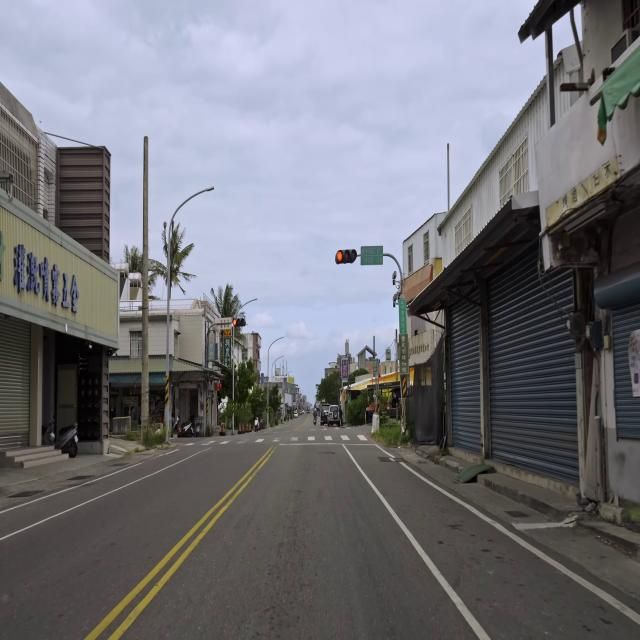red light: (335, 250, 357, 263), (232, 318, 246, 327)
